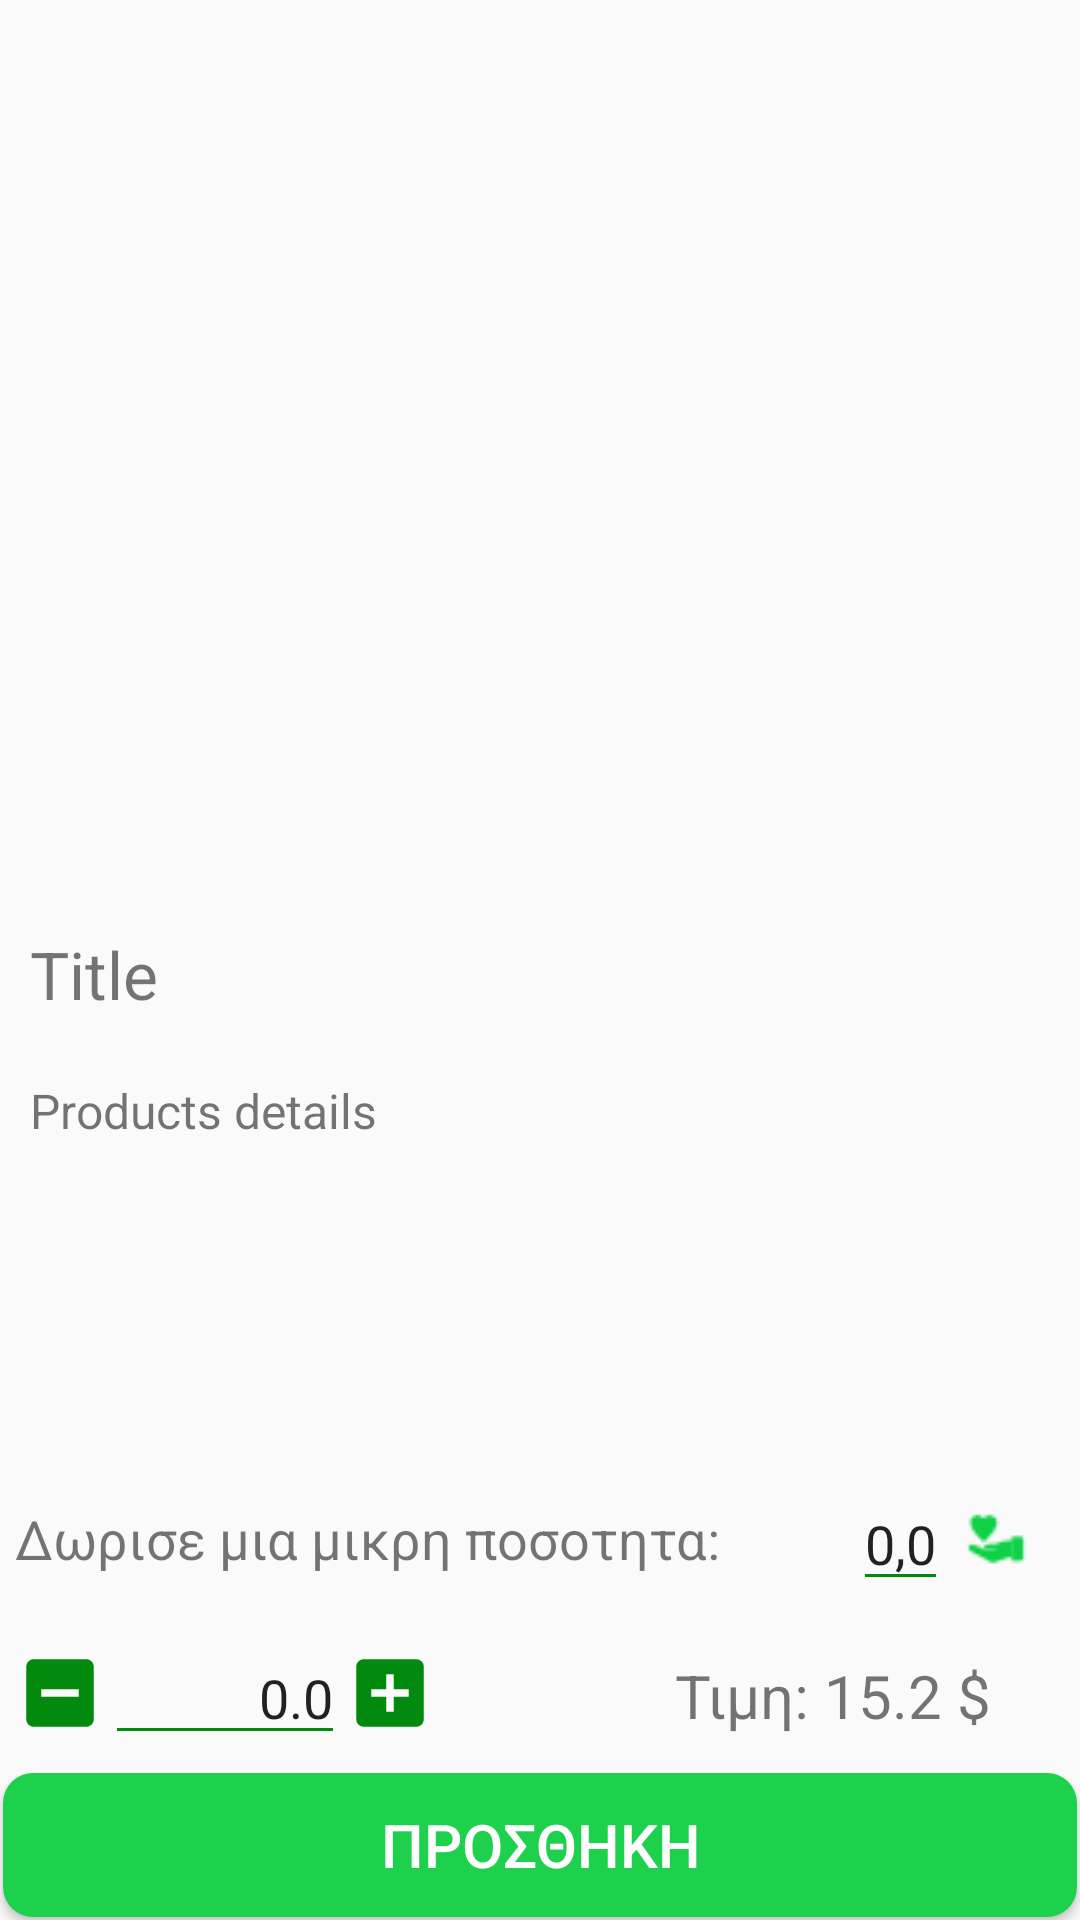

Icons on this 1080 x 1920 Android screen, each with its box as {"left": x1, "top": y1, "right": x2, "bottom": y2}:
add box: {"left": 356, "top": 1659, "right": 424, "bottom": 1727}
indeterminate check box: {"left": 26, "top": 1659, "right": 94, "bottom": 1727}
philathropy: {"left": 968, "top": 1514, "right": 1025, "bottom": 1564}
